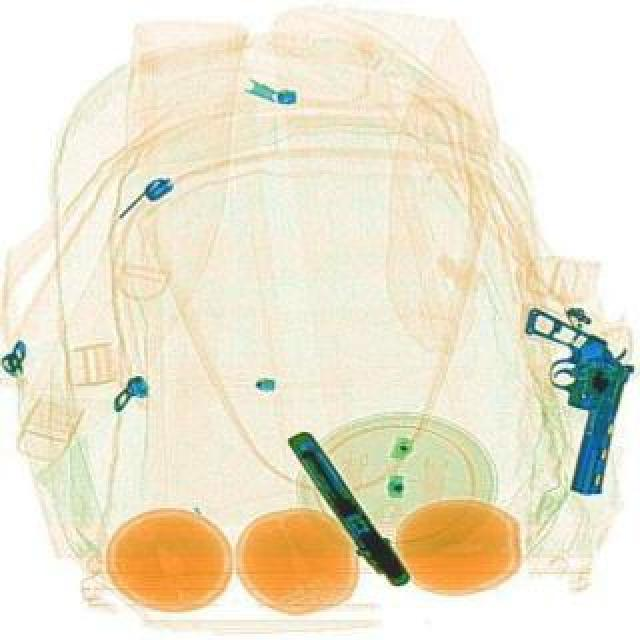gun: (484, 306, 636, 498), (274, 424, 414, 592)
